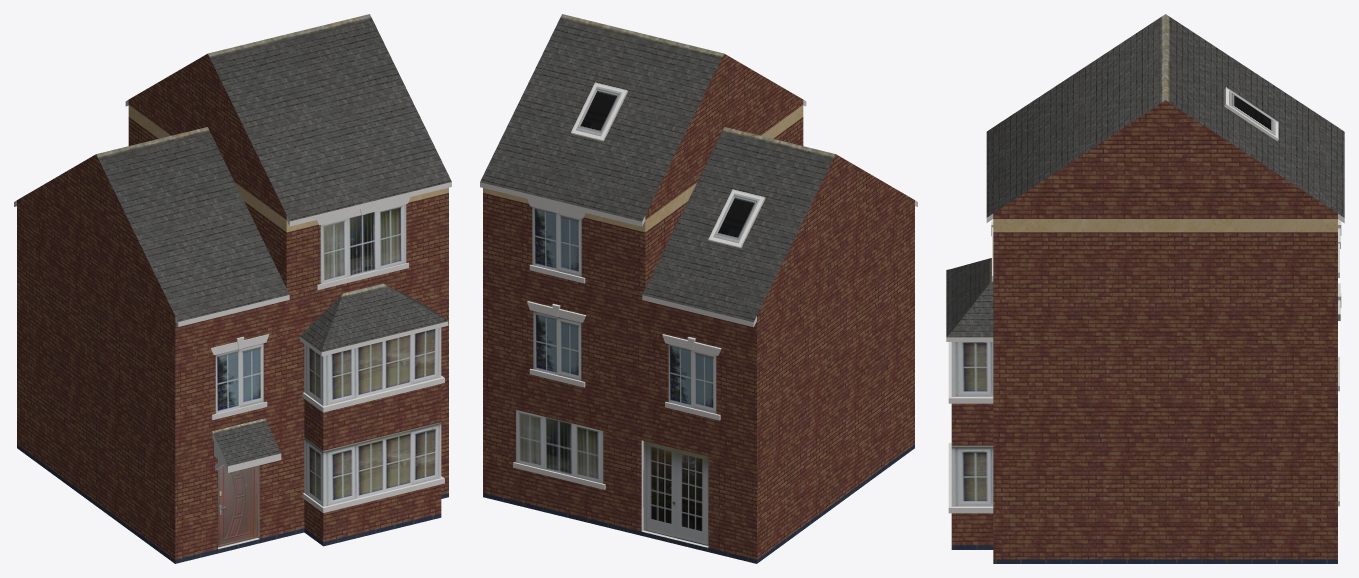
Rendered from modernterrace3story2bm.FBX.
3 views of the same model, side by side, from view 1: azimuth 30°, elevation 25°; view 2: azimuth 150°, elevation 25°; view 3: azimuth 270°, elevation 25° (orthographic). The views are drawn at different scales.
Visible parts, largest first — view 1: Box001; view 2: Box001; view 3: Box001.
Boxes of the visible parts, <box> form: Box001: <box>14,14,451,563</box>; Box001: <box>480,14,917,563</box>; Box001: <box>946,14,1344,563</box>.
Bounding box in the file's own units: 800 × 1188 × 925.
